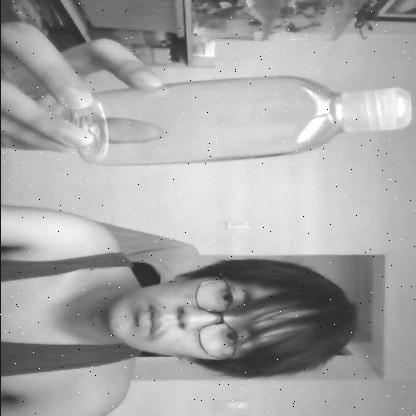Plastic Bottle: (77, 74, 415, 173)
